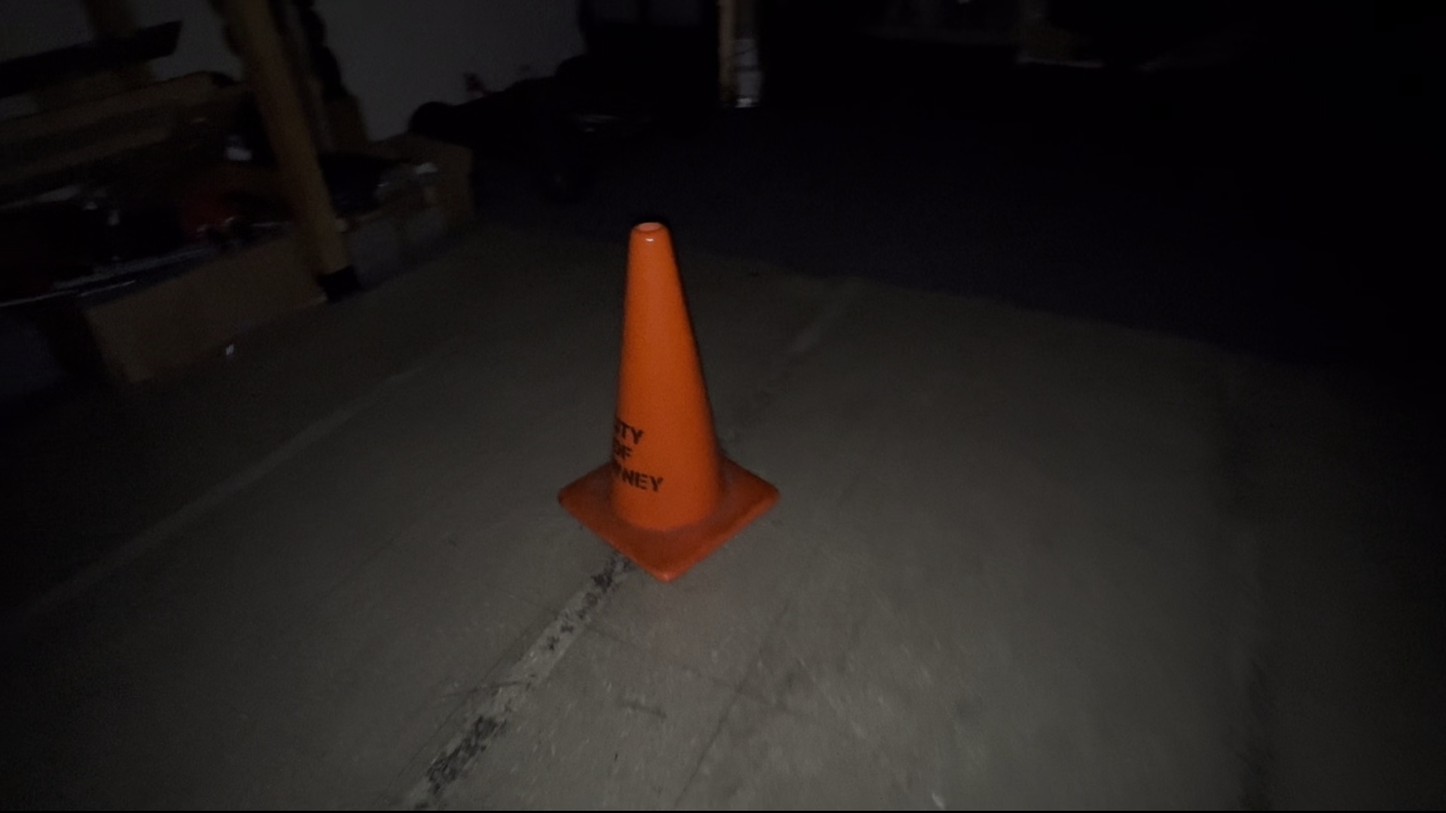traffic_cone: (556, 220, 781, 583)
